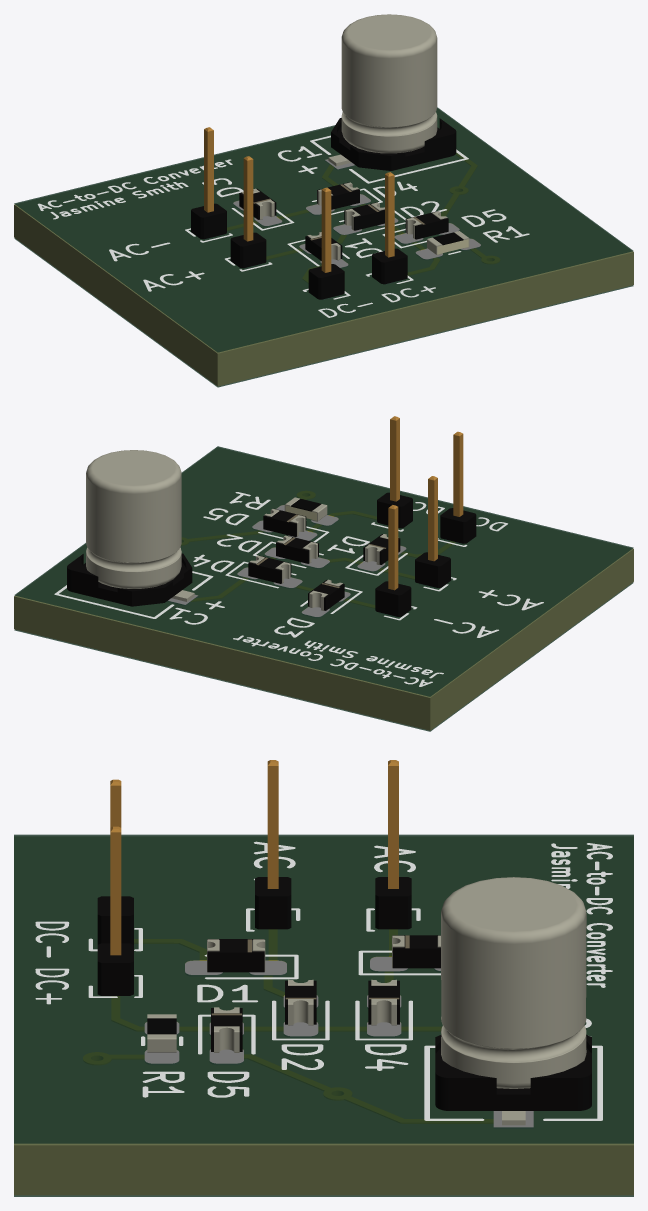
Rendered from ACtoDC3d.obj.
The picture shows the model from 3 angles, top to bottom: view 1: azimuth 30°, elevation 25°; view 2: azimuth 150°, elevation 25°; view 3: azimuth 270°, elevation 25°; orthographic projection. The views are drawn at different scales.
Parts seen in each view (by area): view 1: =>01110, AC_to_DC_Power_converter_PCB_4, AC_to_DC_Power_converter_PCB, AC_to_DC_Power_converter_PCB_2, C_Elec_4x54_25, C_Elec_4x54_37, C_Elec_4x54, C_Elec_4x54_34, =>01111, C_Elec_4x54_9, C_Elec_4x54_4, PinHeader_1x01_P100mm_Vertical_72 (+4 smaller); view 2: =>01110, AC_to_DC_Power_converter_PCB_4, AC_to_DC_Power_converter_PCB_5, AC_to_DC_Power_converter_PCB_2, C_Elec_4x54_25, C_Elec_4x54_37, C_Elec_4x54, C_Elec_4x54_34, =>01111, C_Elec_4x54_8, C_Elec_4x54_4, PinHeader_1x01_P100mm_Vertical_70 (+10 smaller); view 3: =>01110, AC_to_DC_Power_converter_PCB_4, AC_to_DC_Power_converter_PCB_1, C_Elec_4x54_25, C_Elec_4x54_37, C_Elec_4x54_12, C_Elec_4x54, C_Elec_4x54_34, C_Elec_4x54_4, PinHeader_1x01_P100mm_Vertical_73, PinHeader_1x01_P100mm_Vertical_99, PinHeader_1x01_P100mm_Vertical_15 (+12 smaller).
Part boxes in pixels (x1,y1,x2,y2): =>01110: (14,107,633,352); AC_to_DC_Power_converter_PCB_4: (14,109,633,353); AC_to_DC_Power_converter_PCB: (217,252,633,386); AC_to_DC_Power_converter_PCB_2: (14,205,217,385); C_Elec_4x54_25: (341,39,437,126); C_Elec_4x54_37: (348,15,430,49); C_Elec_4x54: (341,116,437,149); C_Elec_4x54_34: (341,14,437,58); =>01111: (14,238,633,387); C_Elec_4x54_9: (391,135,451,170); C_Elec_4x54_4: (342,112,436,135); PinHeader_1x01_P100mm_Vertical_72: (388,175,394,257); =>01110: (14,446,633,696); AC_to_DC_Power_converter_PCB_4: (14,448,633,697); AC_to_DC_Power_converter_PCB_5: (14,596,430,730); AC_to_DC_Power_converter_PCB_2: (430,549,633,730); C_Elec_4x54_25: (86,474,181,562); C_Elec_4x54_37: (92,450,175,485); C_Elec_4x54: (86,552,181,585); C_Elec_4x54_34: (86,450,181,493); =>01111: (14,582,633,731); C_Elec_4x54_8: (72,570,131,606); C_Elec_4x54_4: (86,548,181,571); PinHeader_1x01_P100mm_Vertical_70: (390,419,396,501); =>01110: (14,834,633,1143); AC_to_DC_Power_converter_PCB_4: (14,837,633,1145); AC_to_DC_Power_converter_PCB_1: (14,1145,633,1195); C_Elec_4x54_25: (441,914,586,1048); C_Elec_4x54_37: (450,878,576,931); C_Elec_4x54_12: (450,1078,577,1110); C_Elec_4x54: (441,1035,586,1083); C_Elec_4x54_34: (441,877,586,944); C_Elec_4x54_4: (442,1026,585,1062); PinHeader_1x01_P100mm_Vertical_73: (110,832,121,955); PinHeader_1x01_P100mm_Vertical_99: (267,766,278,888); PinHeader_1x01_P100mm_Vertical_15: (388,766,398,888).
Bounding box in the file's own units: 0.0201 × 0.0084 × 0.017.
